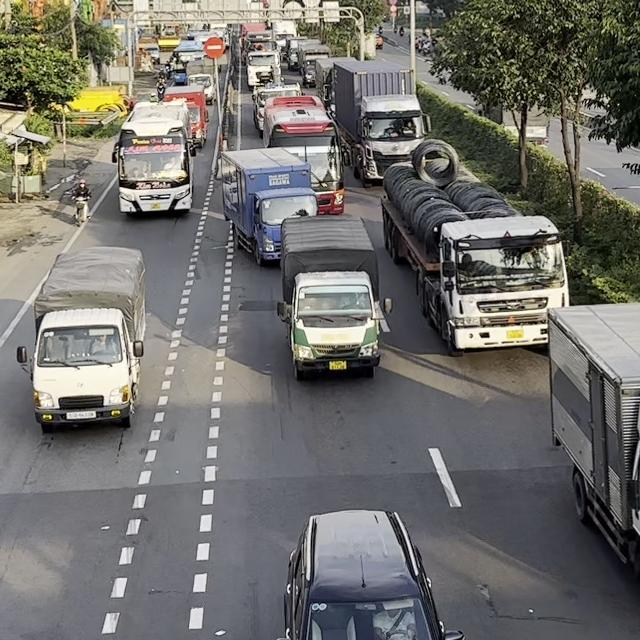bus: (260, 95, 345, 215), (115, 101, 194, 217)
car: (282, 508, 464, 639)
motorcycle: (71, 192, 91, 226)
truck: (379, 139, 570, 356), (546, 301, 639, 580), (16, 245, 146, 432), (276, 213, 392, 380), (322, 57, 432, 188), (217, 146, 318, 266), (160, 86, 209, 148), (251, 82, 303, 137)
